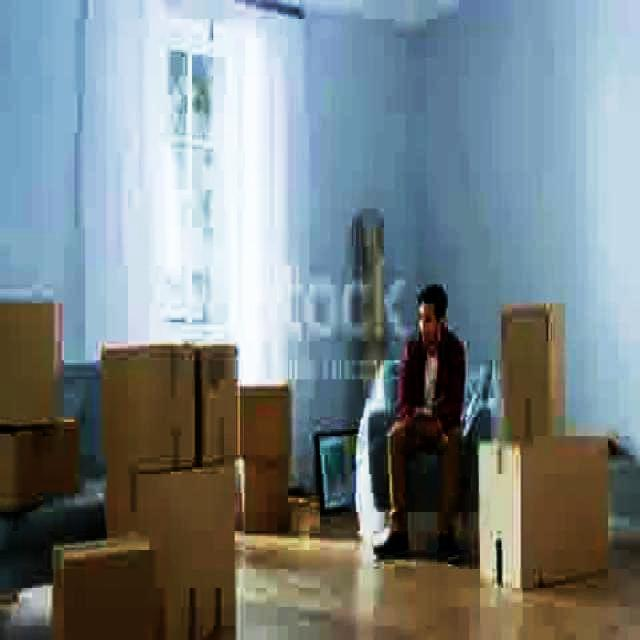Box: (478, 434, 608, 592), (143, 468, 242, 634), (100, 342, 190, 466), (58, 550, 152, 640), (0, 304, 63, 430), (504, 318, 562, 449), (8, 428, 86, 506), (198, 342, 239, 466)
